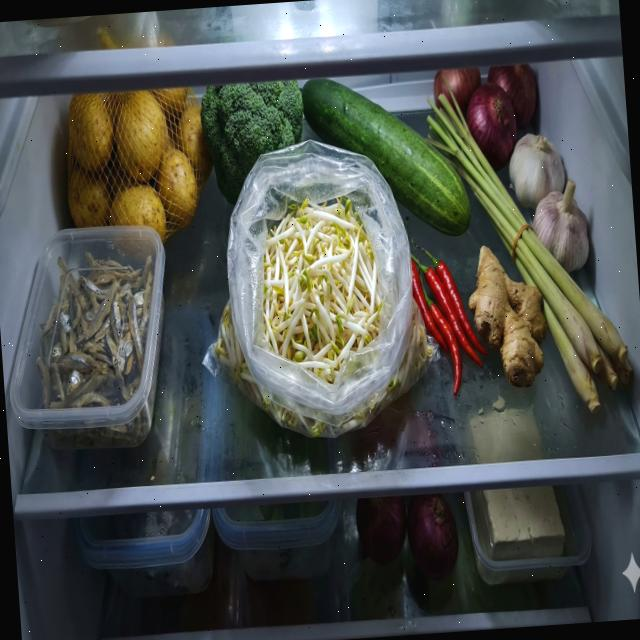anchovies: (29, 250, 168, 453)
bean_sprouts: (205, 190, 439, 446)
brocolli: (198, 76, 310, 206)
chili: (408, 232, 490, 398)
cucumber: (301, 68, 472, 246)
garlic: (506, 128, 591, 278)
ginger: (464, 240, 551, 390)
lemongrass: (419, 65, 631, 430)
onion: (431, 62, 542, 177)
potato: (61, 82, 218, 250)
tofu: (468, 404, 566, 562)
